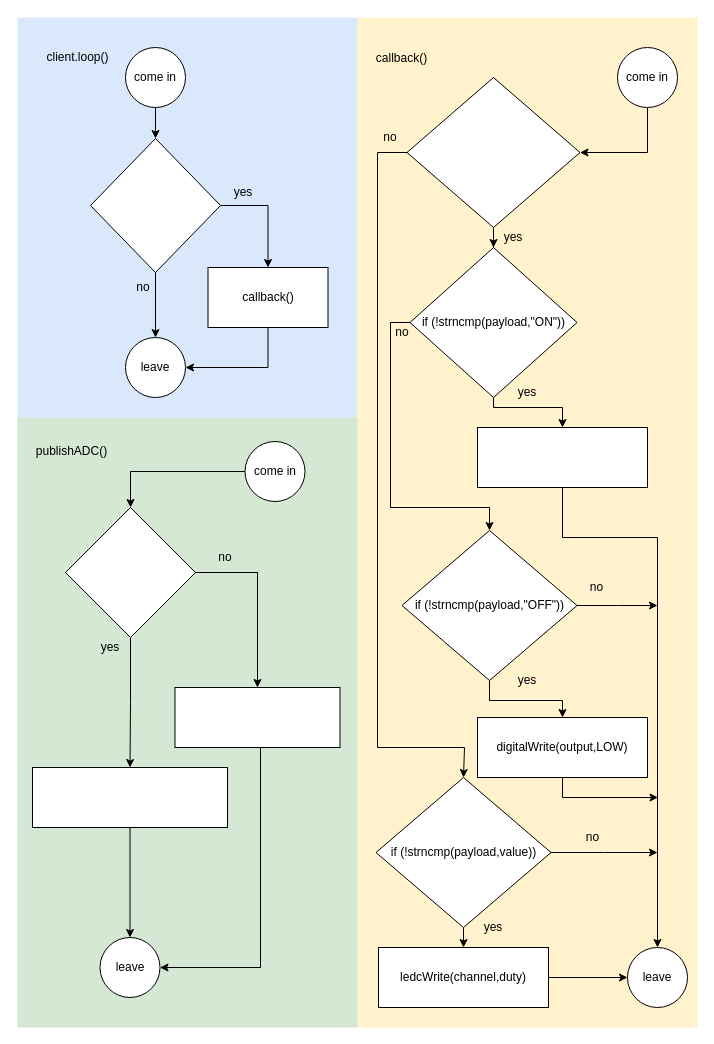
This 714x1044 diagram has some shape labels left out. The shapes that lost their labels are listed below. From the top down, each one's centre as x and y in pixels, then its label:
the point at 493,152: if (!strncmp(topicin,topic))
the point at 155,205: mqtt message is received
the point at 562,457: digitalWrite(output,HIGH)
the point at 130,572: if (client.connectet)
the point at 257,717: reconnect()
the point at 130,797: client.publish(topic,payloud)
